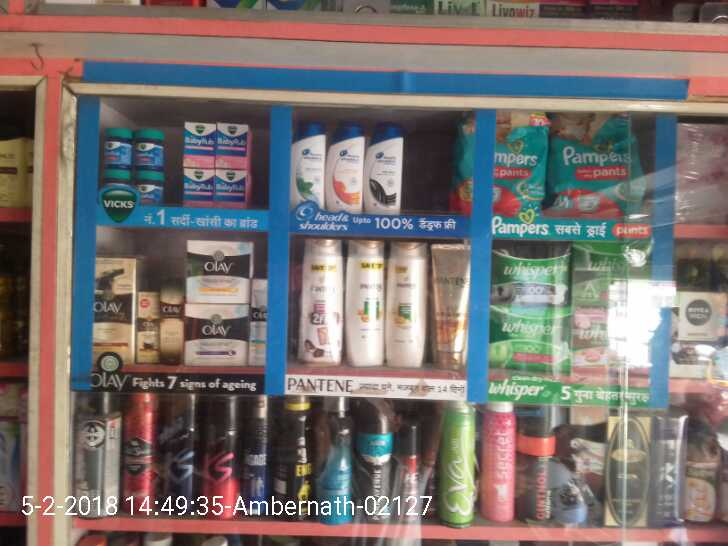vicks: (101, 119, 243, 205)
